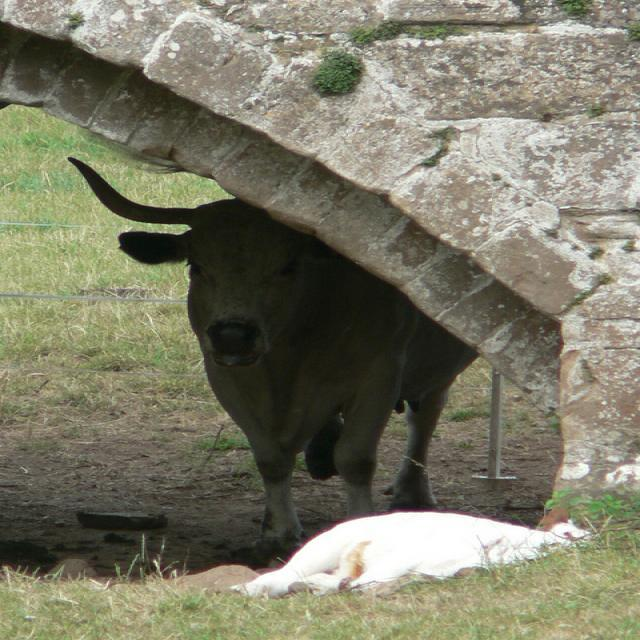cow: (63, 157, 477, 539), (233, 508, 579, 609)
